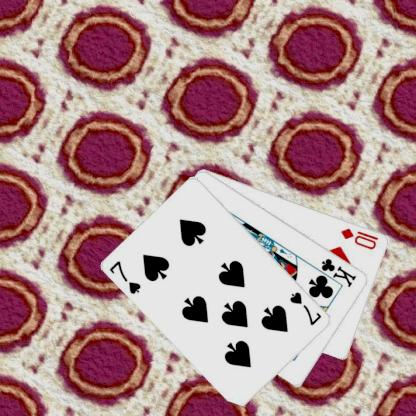10D: (338, 225, 380, 251)
7S: (288, 289, 324, 327), (107, 258, 142, 296)
KC: (312, 255, 358, 289)
